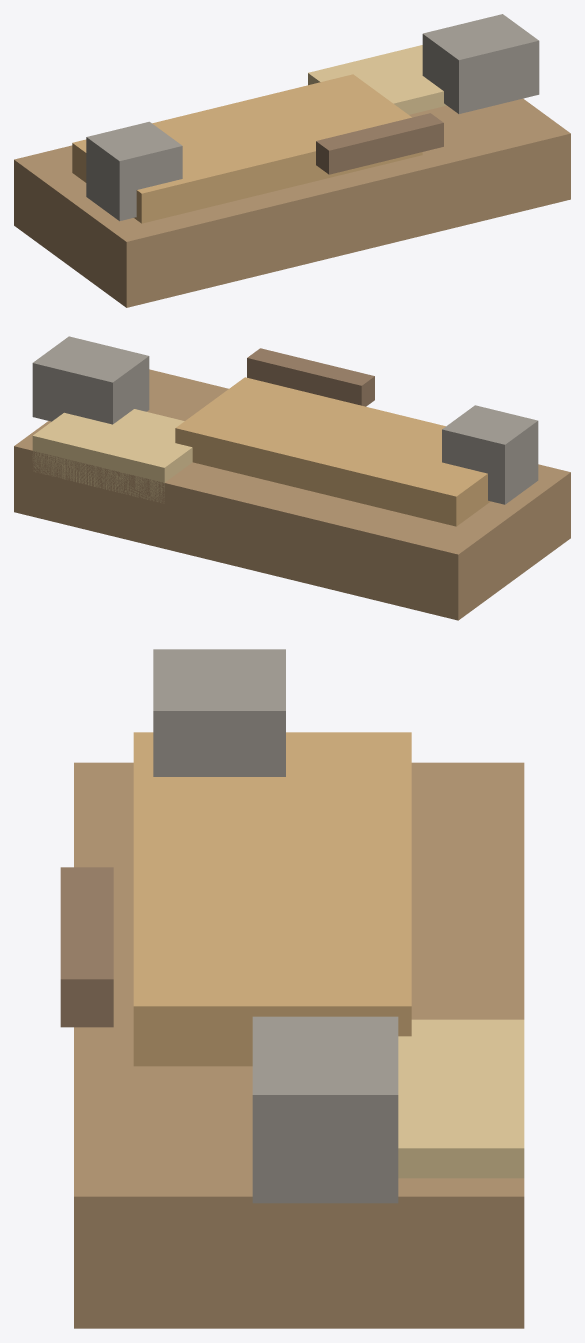
The model's file is cantina_dust_berm_v1.glb.
3 views of the same model, one above another, from view 1: azimuth 30°, elevation 25°; view 2: azimuth 150°, elevation 25°; view 3: azimuth 270°, elevation 25° (orthographic). The views are drawn at different scales.
Visible parts, largest first — view 1: berm_main, berm_top_light, right_rock, left_rock, rust_scrap_half_buried, berm_small_step; view 2: berm_main, berm_top_light, berm_small_step, right_rock, left_rock, rust_scrap_half_buried; view 3: berm_main, berm_top_light, right_rock, berm_small_step, left_rock, rust_scrap_half_buried.
Boxes of the visible parts, x1=… form: berm_main: x1=14, y1=98, x2=570, y2=307; berm_top_light: x1=72, y1=74, x2=422, y2=223; right_rock: x1=422, y1=14, x2=539, y2=113; left_rock: x1=86, y1=121, x2=182, y2=221; rust_scrap_half_buried: x1=316, y1=113, x2=443, y2=174; berm_small_step: x1=308, y1=45, x2=446, y2=114; berm_main: x1=14, y1=369, x2=570, y2=620; berm_top_light: x1=175, y1=377, x2=490, y2=526; berm_small_step: x1=32, y1=409, x2=192, y2=503; right_rock: x1=32, y1=336, x2=149, y2=424; left_rock: x1=442, y1=405, x2=538, y2=504; rust_scrap_half_buried: x1=247, y1=348, x2=374, y2=406; berm_main: x1=74, y1=762, x2=524, y2=1328; berm_top_light: x1=133, y1=732, x2=411, y2=1066; right_rock: x1=252, y1=1016, x2=398, y2=1203; berm_small_step: x1=398, y1=1019, x2=524, y2=1178; left_rock: x1=153, y1=649, x2=285, y2=776; rust_scrap_half_buried: x1=60, y1=867, x2=113, y2=1027.
Bounding box in the file's own units: 1.59 × 0.435 × 0.7.
